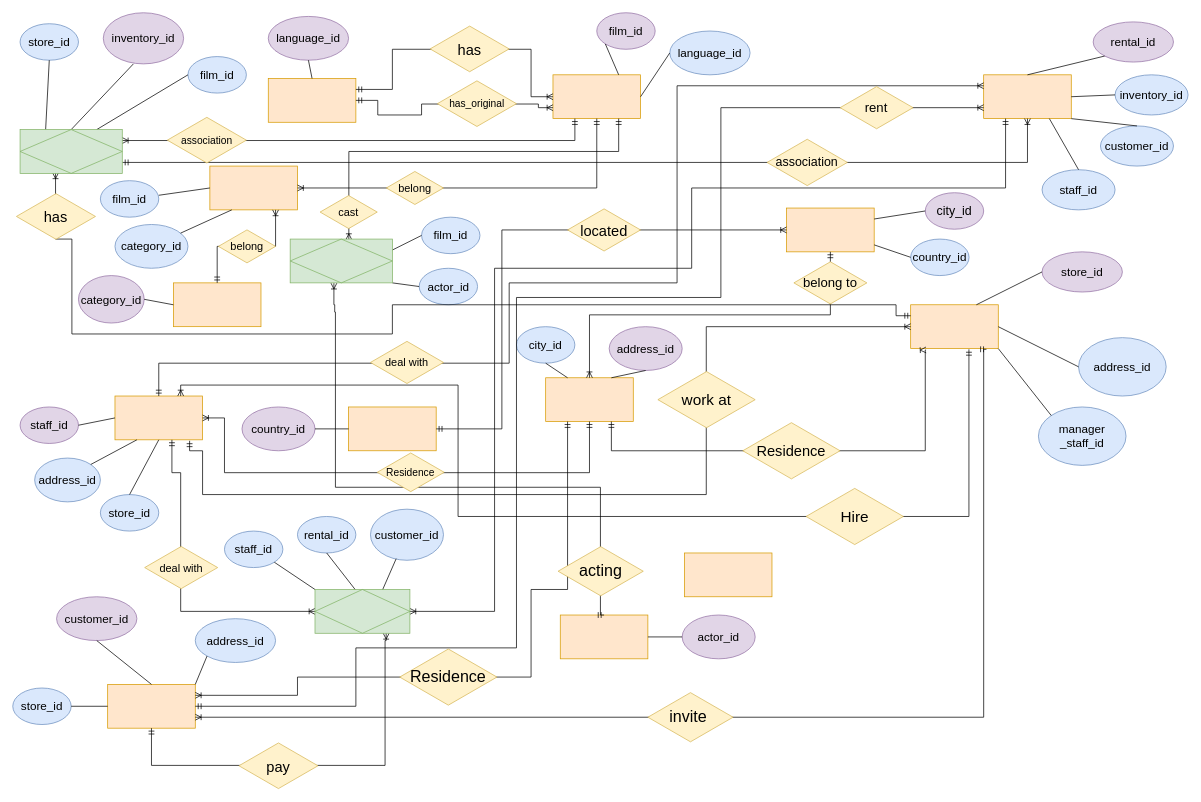
Some shapes in this 1201 by 802 pixel diagram are drawn without their labels. Each missing label, with the centre of its shape:
"actor" goes at point 604,636.
"address" goes at point 589,399.
"category" goes at point 217,304.
"city" goes at point 830,229.
"country" goes at point 392,428.
"customer" goes at point 151,706.
"film" goes at point 596,96.
"film_ category" goes at point 253,187.
"film_actor" goes at point 340,260.
"film_text" goes at point 728,574.
"inventory" goes at point 70,151.
"language" goes at point 312,100.
"payment" goes at point 362,611.
"rental" goes at point 1027,96.
"staff" goes at point 158,417.
"store" goes at point 954,326.
